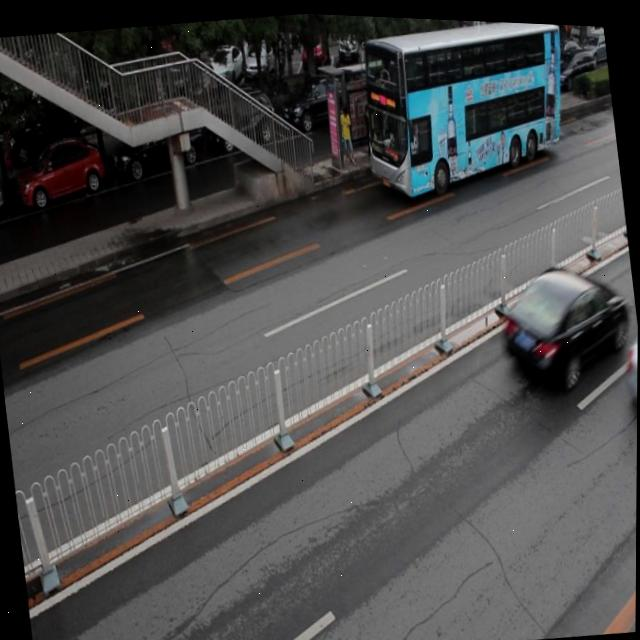car: (493, 251, 631, 396), (13, 134, 110, 216), (108, 111, 208, 185), (277, 68, 361, 140), (206, 85, 279, 154), (547, 38, 598, 94), (0, 165, 8, 224)
van: (351, 12, 578, 204)
